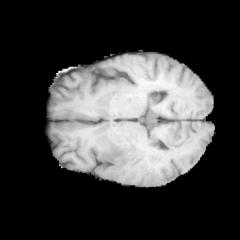glioma: (96, 141, 161, 185)
